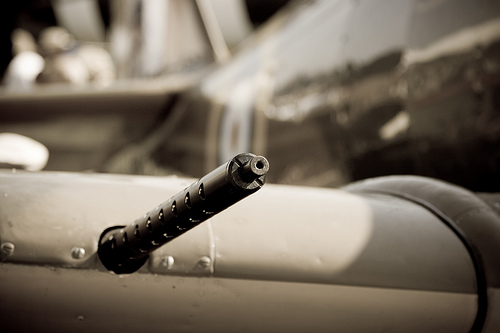rifle: (77, 152, 267, 278)
